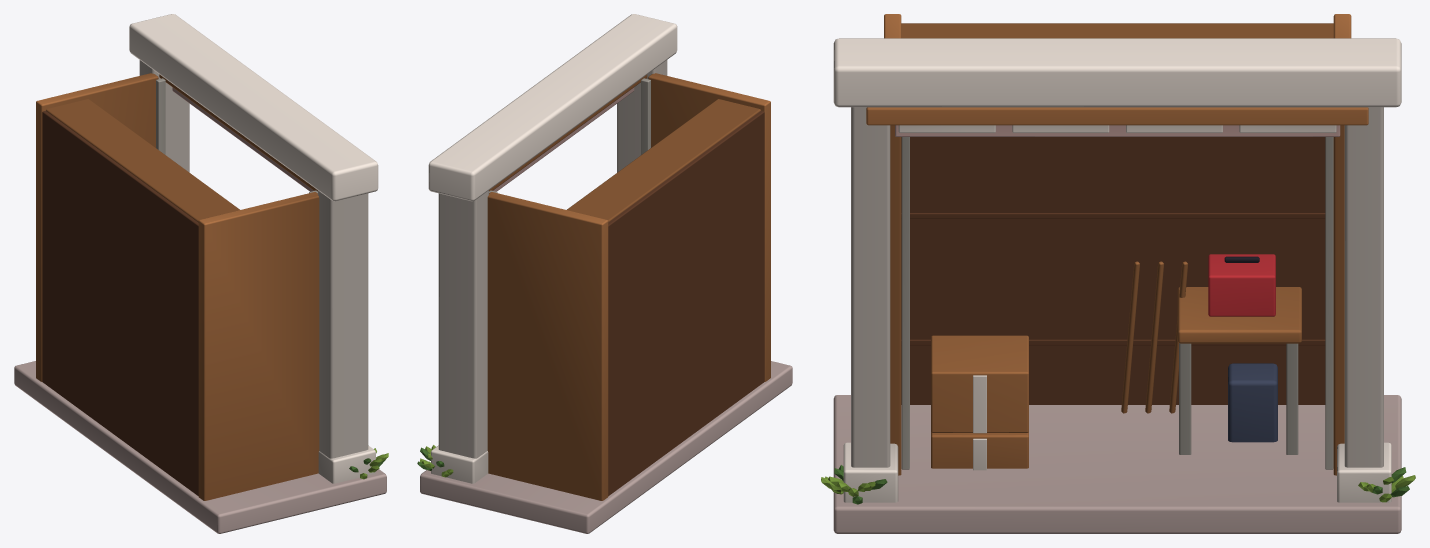
The model's file is house.garage.open.glb.
3 views of the same model, side by side, from view 1: azimuth 30°, elevation 25°; view 2: azimuth 150°, elevation 25°; view 3: azimuth 270°, elevation 25° (orthographic). The views are drawn at different scales.
Size of the model in its own units: 1.29 by 2.34 by 2.72.
